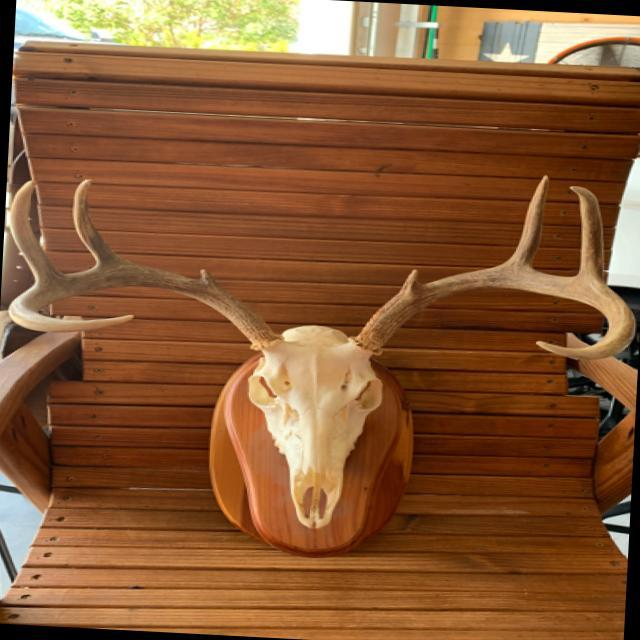L-F: (350, 263, 636, 360)
L-G1: (399, 269, 422, 292)
L-G2: (504, 175, 549, 267)
L-G3: (568, 186, 605, 282)
R-F: (7, 260, 285, 350)
R-G1: (196, 269, 218, 287)
R-G2: (73, 178, 124, 265)
R-G3: (9, 180, 64, 283)
